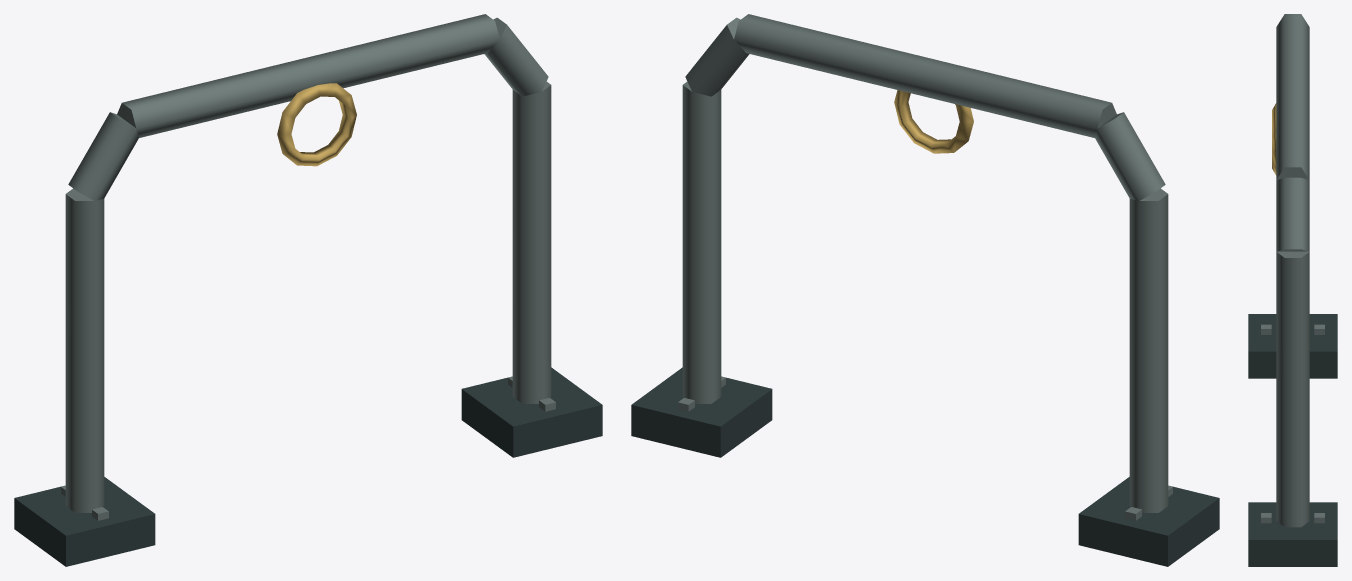
The model's file is legacy-108.glb.
The picture shows the model from 3 angles, left to right: view 1: azimuth 30°, elevation 25°; view 2: azimuth 150°, elevation 25°; view 3: azimuth 270°, elevation 25°; orthographic projection. The views are drawn at different scales.
Parts seen in each view (by area): view 1: part-3, part-1, part-5, part-9, part-6, part-2, part-12, part-4; view 2: part-3, part-1, part-5, part-9, part-6, part-2, part-4, part-12; view 3: part-5, part-3, part-9, part-6, part-4, part-12.
Part boxes in pixels (bbox=[...]): part-3: bbox=[117, 14, 499, 137]; part-1: bbox=[65, 188, 104, 512]; part-5: bbox=[512, 81, 551, 403]; part-9: bbox=[461, 367, 602, 457]; part-6: bbox=[14, 477, 155, 566]; part-2: bbox=[68, 112, 138, 200]; part-12: bbox=[277, 83, 356, 166]; part-4: bbox=[484, 17, 548, 96]; part-3: bbox=[734, 14, 1116, 137]; part-1: bbox=[1129, 188, 1168, 512]; part-5: bbox=[682, 81, 721, 403]; part-9: bbox=[631, 367, 772, 457]; part-6: bbox=[1078, 477, 1219, 566]; part-2: bbox=[1095, 112, 1165, 200]; part-4: bbox=[685, 17, 749, 96]; part-12: bbox=[894, 90, 973, 153]; part-5: bbox=[1276, 251, 1309, 527]; part-3: bbox=[1276, 14, 1309, 180]; part-9: bbox=[1248, 502, 1337, 566]; part-6: bbox=[1248, 314, 1337, 378]; part-4: bbox=[1276, 177, 1309, 251]; part-12: bbox=[1272, 103, 1276, 175].
Bounding box in the file's own units: 0.9 × 0.6742 × 0.15.
